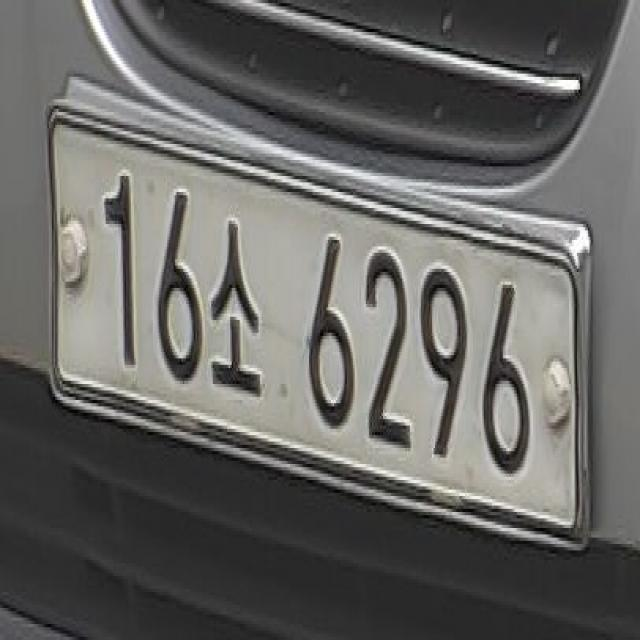1: (96, 157, 148, 381)
2: (360, 237, 416, 458)
6: (150, 170, 205, 393), (301, 224, 359, 435), (479, 272, 531, 477)
9: (418, 256, 471, 464)
license_plate: (44, 67, 596, 563)
so: (206, 192, 266, 406)
